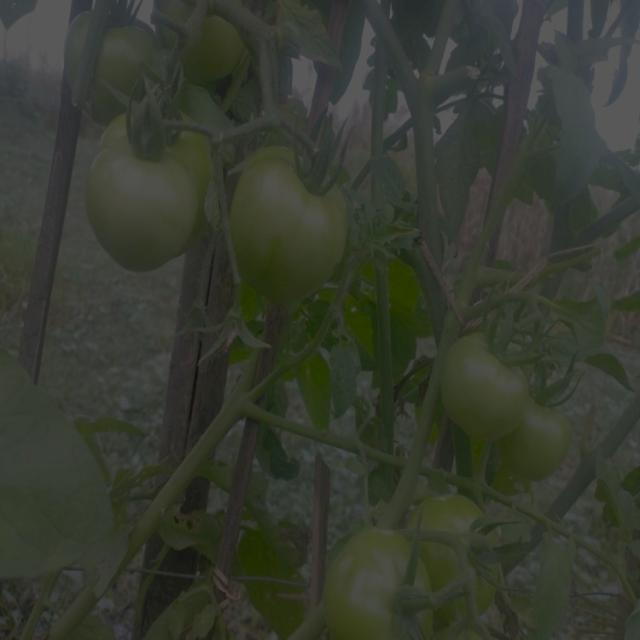tomato: (228, 147, 346, 298), (90, 147, 199, 265), (320, 525, 429, 640), (412, 488, 502, 616), (436, 326, 528, 443), (489, 377, 578, 482), (105, 111, 209, 187), (95, 12, 162, 120), (197, 12, 251, 82)
